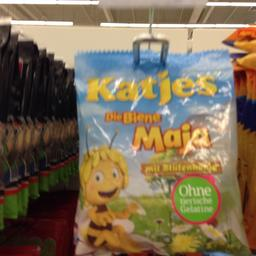candy: (74, 52, 247, 254)
